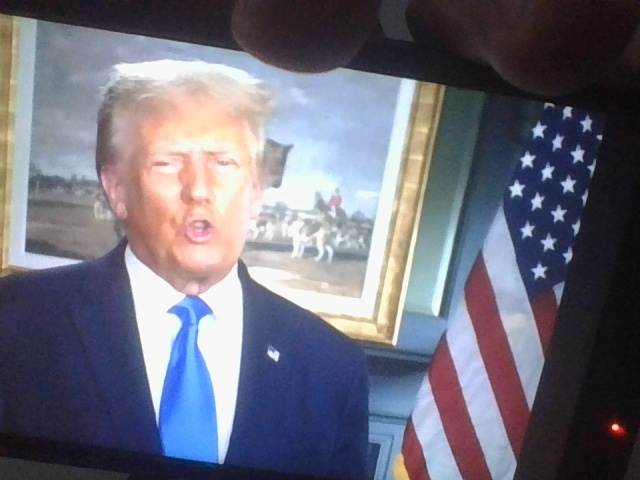fake: (111, 57, 270, 283)
